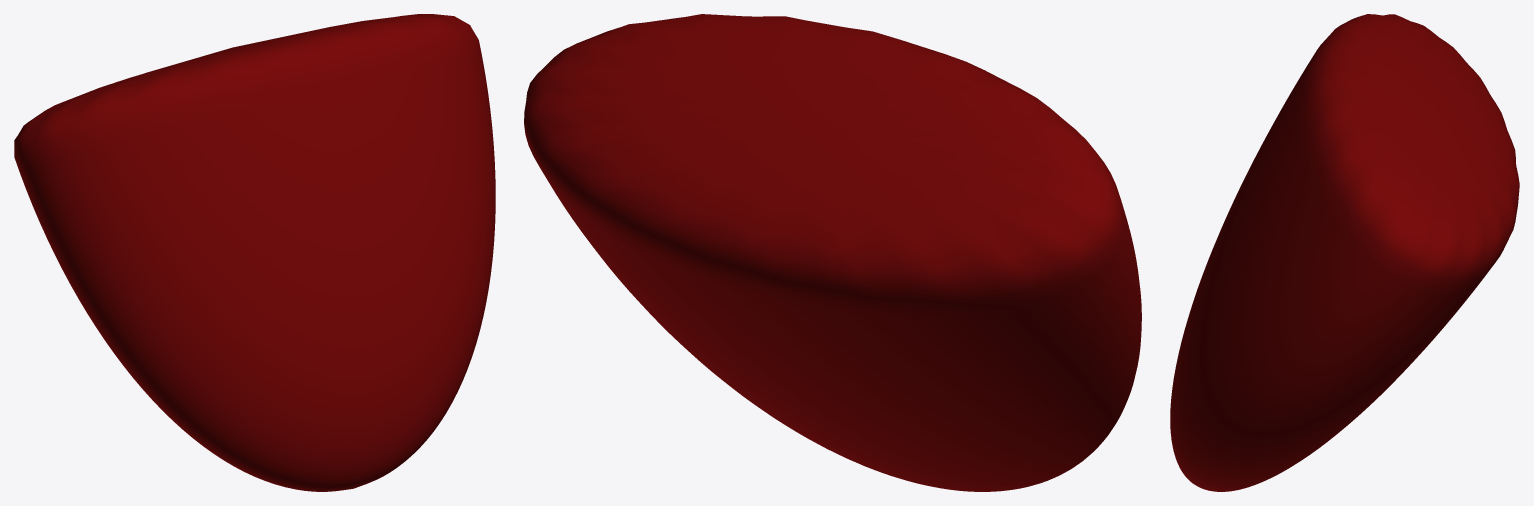
The model's file is mouth.fbx.
3 renders of one model, left to right at view 1: azimuth 30°, elevation 25°; view 2: azimuth 150°, elevation 25°; view 3: azimuth 270°, elevation 25°, orthographic. The views are drawn at different scales.
Parts seen in each view (by area): view 1: mouth1; view 2: mouth1; view 3: mouth1.
Boxes of the visible parts, bbox=[...] form: mouth1: bbox=[14, 14, 495, 491]; mouth1: bbox=[524, 14, 1141, 491]; mouth1: bbox=[1170, 14, 1519, 491].
Size of the model in its own units: 0.3471 by 0.2866 by 0.2275.
